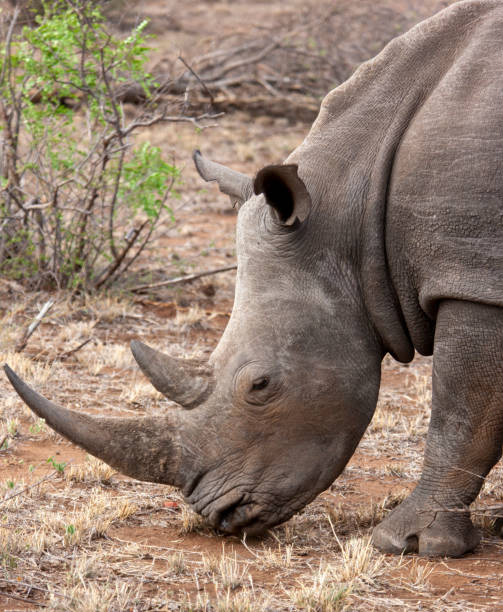rhino: (4, 131, 392, 577)
